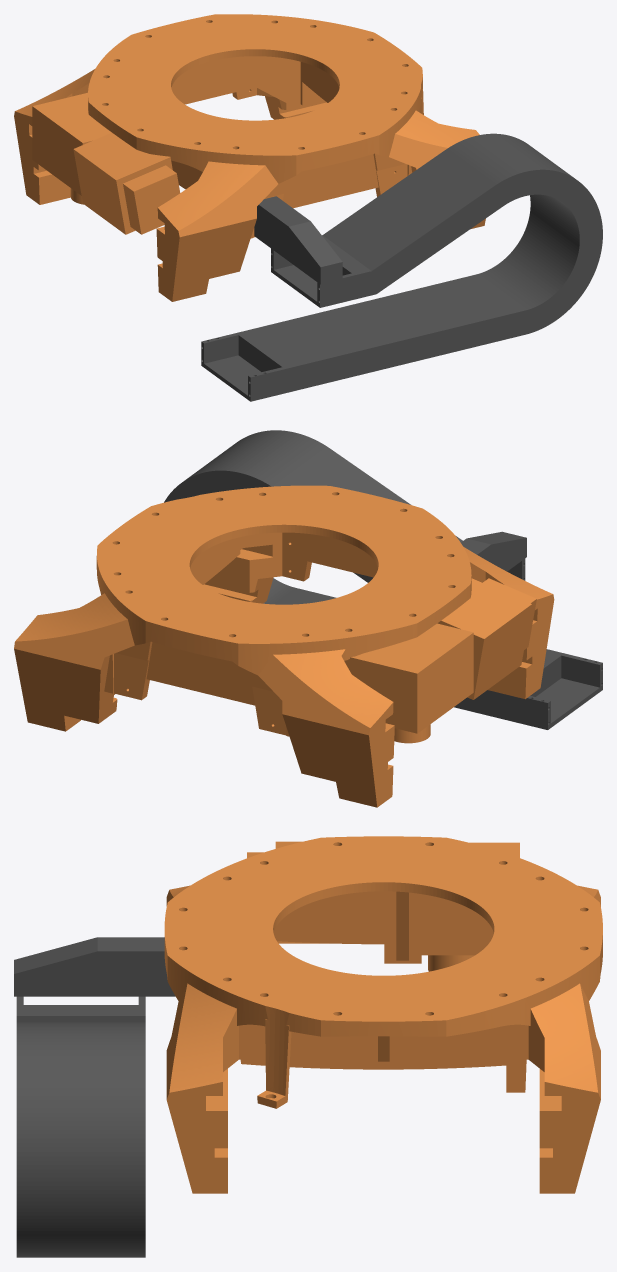
File: rail_moving_link.dae
3 views of the same model, one above another, from view 1: azimuth 30°, elevation 25°; view 2: azimuth 150°, elevation 25°; view 3: azimuth 270°, elevation 25° (orthographic). The views are drawn at different scales.
Visible parts, largest first — view 1: rail_moving_link; view 2: rail_moving_link; view 3: rail_moving_link.
Boxes of the visible parts, <box> form: rail_moving_link: <box>14,14,602,401</box>; rail_moving_link: <box>14,430,602,807</box>; rail_moving_link: <box>14,836,602,1257</box>.
Size of the model in its own units: 1.41 by 1.41 by 0.62.
